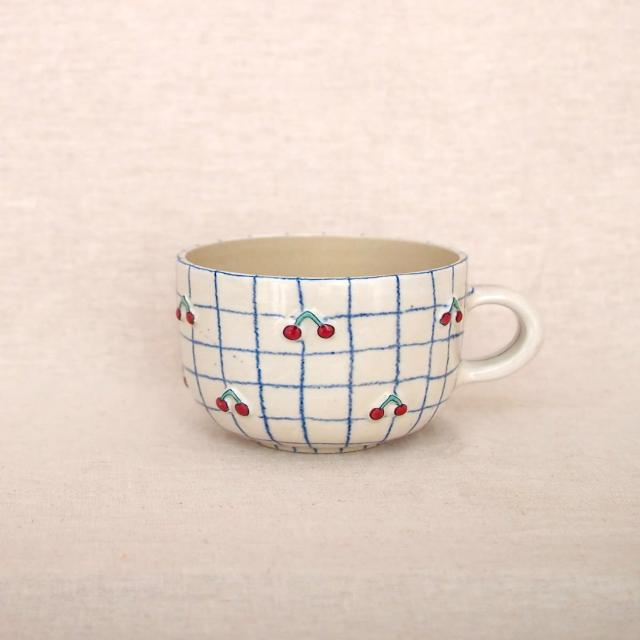glass cup: (175, 233, 542, 454)
